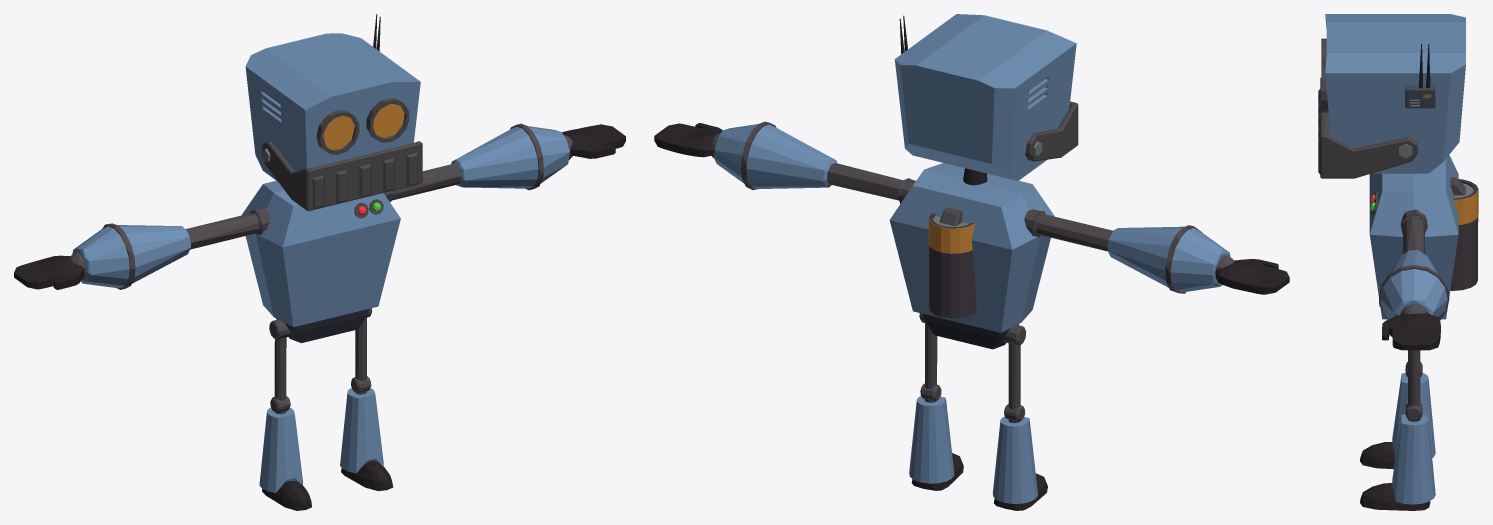
The model's file is robot (1).fbx.
3 renders of one model, left to right at view 1: azimuth 30°, elevation 25°; view 2: azimuth 150°, elevation 25°; view 3: azimuth 270°, elevation 25°, orthographic. The views are drawn at different scales.
Parts seen in each view (by area): view 1: Cube.002, Cube, Cylinder.007, Cylinder.012, Cube.001, Cube.003, Cylinder, Cylinder.014; view 2: Cube, Cube.002, Cylinder.007, Cylinder.012, Cylinder.006, Cube.003, Cube.001, Cylinder.014; view 3: Cube, Cube.002, Cylinder.012, Cylinder.007, Cube.001, Cylinder.006, Cube.003, Cylinder.014, Cylinder, Cylinder.013, Sphere.
Part boxes in pixels (left/top/right/bottom): Cube.002: left=241, top=180, right=400, bottom=343; Cube: left=245, top=33, right=420, bottom=181; Cylinder.007: left=72, top=123, right=569, bottom=289; Cylinder.012: left=259, top=317, right=383, bottom=492; Cube.001: left=262, top=141, right=422, bottom=211; Cube.003: left=14, top=124, right=625, bottom=289; Cylinder: left=316, top=98, right=409, bottom=154; Cylinder.014: left=262, top=460, right=393, bottom=510; Cube: left=894, top=14, right=1076, bottom=180; Cube.002: left=889, top=163, right=1054, bottom=349; Cylinder.007: left=714, top=121, right=1230, bottom=293; Cylinder.012: left=909, top=323, right=1037, bottom=503; Cylinder.006: left=928, top=213, right=976, bottom=318; Cube.003: left=654, top=123, right=1289, bottom=294; Cube.001: left=1025, top=101, right=1078, bottom=161; Cylinder.014: left=911, top=453, right=1047, bottom=510; Cube: left=1325, top=14, right=1465, bottom=173; Cube.002: left=1369, top=155, right=1465, bottom=319; Cylinder.012: left=1392, top=350, right=1435, bottom=504; Cylinder.007: left=1379, top=209, right=1449, bottom=319; Cube.001: left=1318, top=77, right=1417, bottom=178; Cylinder.006: left=1450, top=179, right=1478, bottom=290; Cube.003: left=1382, top=312, right=1440, bottom=350; Cylinder.014: left=1360, top=442, right=1430, bottom=510; Cylinder: left=1321, top=38, right=1328, bottom=112; Cylinder.013: left=1405, top=362, right=1422, bottom=421; Sphere: left=1400, top=304, right=1426, bottom=314.
Bounding box in the file's own units: 1034 × 738 × 228.
